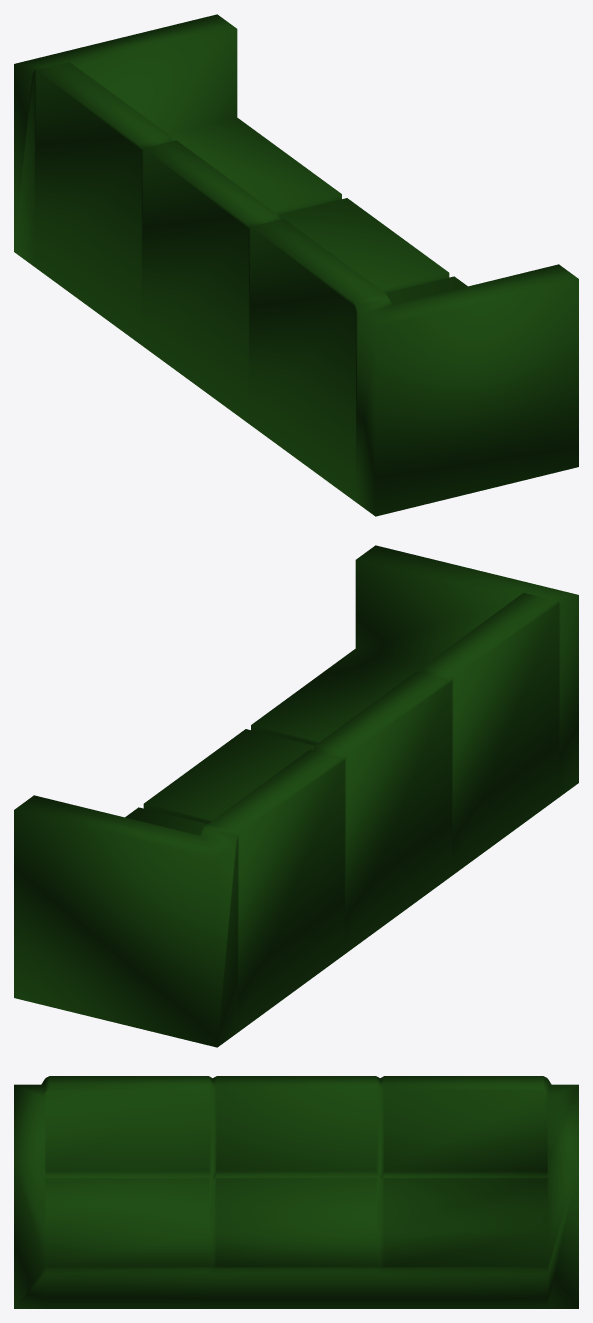
The model's file is Sofa.glb.
3 views of the same model, one above another, from view 1: azimuth 30°, elevation 25°; view 2: azimuth 150°, elevation 25°; view 3: azimuth 270°, elevation 25° (orthographic). The views are drawn at different scales.
Visible parts, largest first — view 1: Sofa; view 2: Sofa; view 3: Sofa.
Boxes of the visible parts, x1=… form: Sofa: x1=14, y1=14, x2=578, y2=516; Sofa: x1=14, y1=545, x2=578, y2=1047; Sofa: x1=14, y1=1076, x2=578, y2=1308.
Size of the model in its own units: 0.76 by 0.71 by 2.34.
